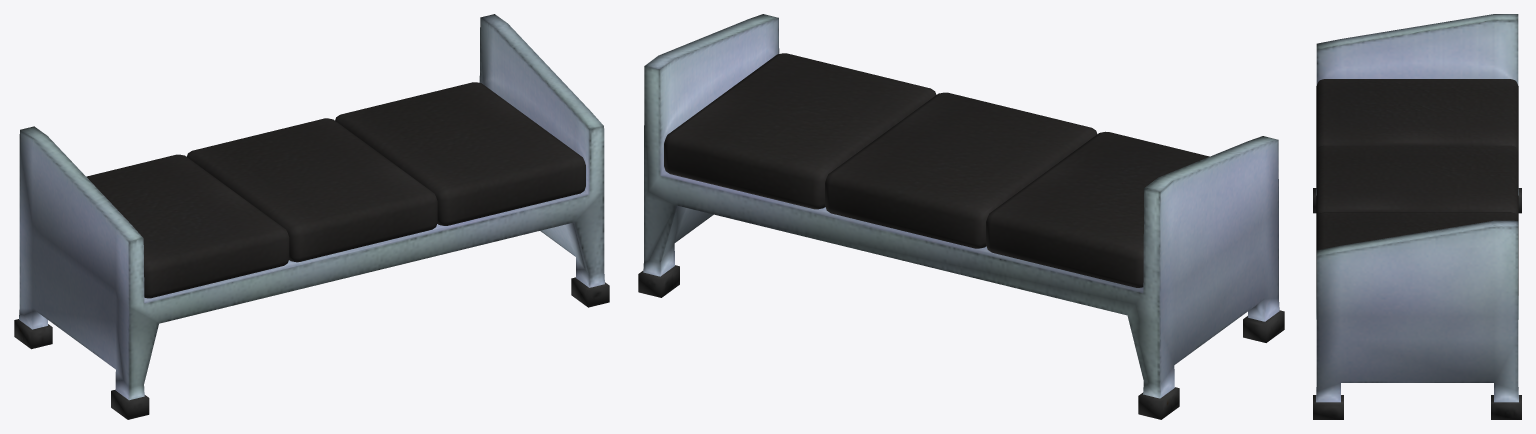
File: Bench_Long_3.fbx
3 views of the same model, side by side, from view 1: azimuth 30°, elevation 25°; view 2: azimuth 150°, elevation 25°; view 3: azimuth 270°, elevation 25° (orthographic). The views are drawn at different scales.
Visible parts, largest first — view 1: R_BenchT1_3; view 2: R_BenchT1_3; view 3: R_BenchT1_3.
Boxes of the visible parts, x1,y1,x2,y2 form: R_BenchT1_3: (14,14,609,419); R_BenchT1_3: (638,14,1284,419); R_BenchT1_3: (1313,14,1521,419).
Size of the model in its own units: 188 by 77.87 by 76.81.
1 material, 1 textured.
